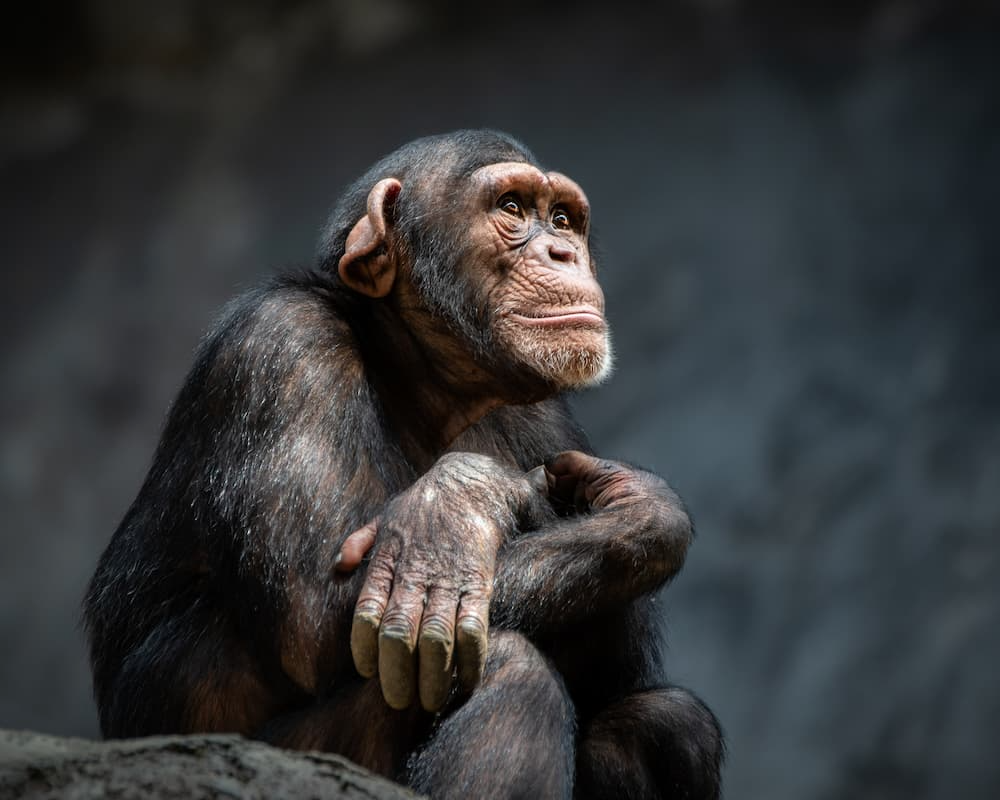Champanze: (79, 76, 735, 797)
